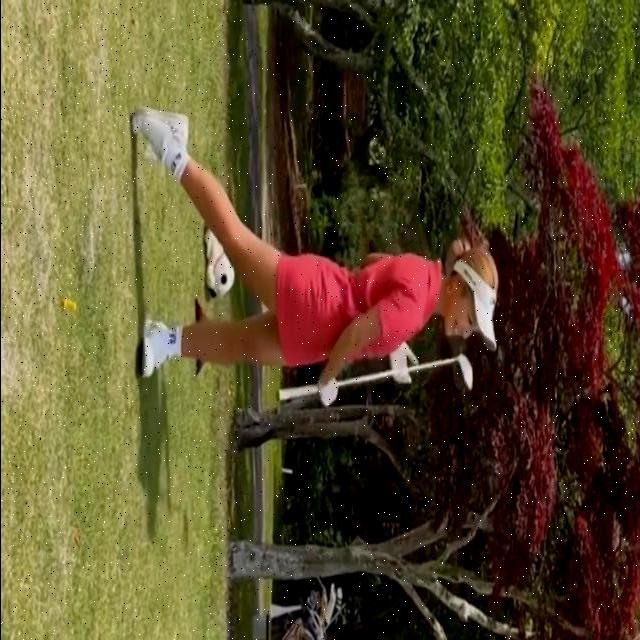golf club-handle: (275, 352, 471, 410)
golf club-head: (454, 355, 472, 398)
